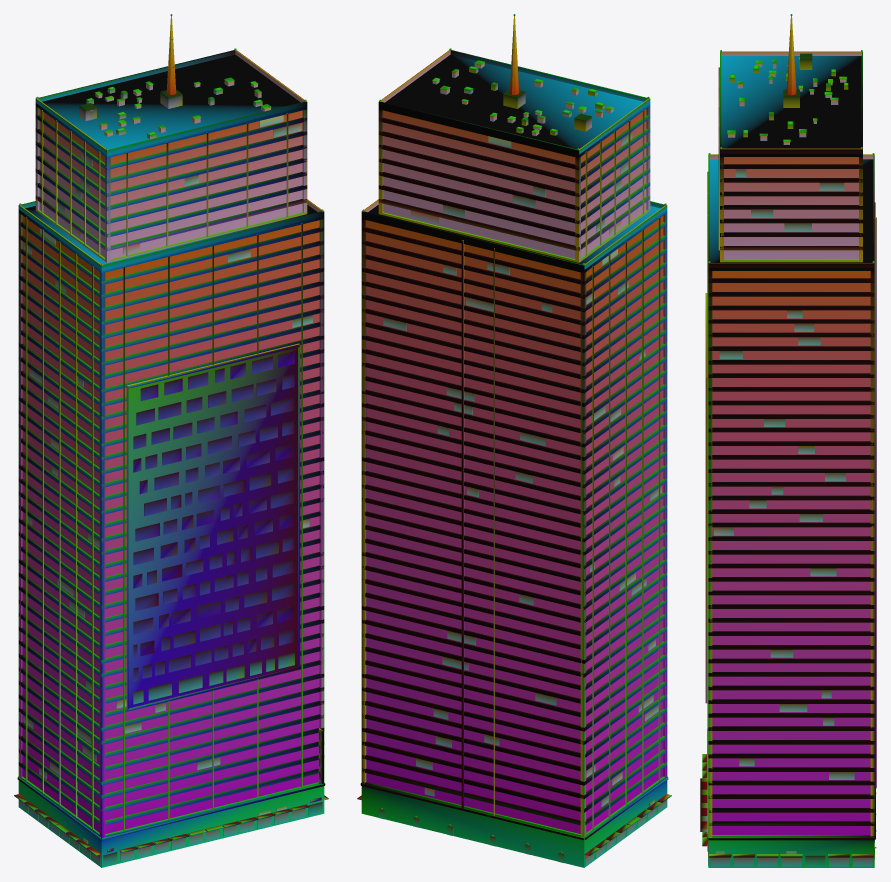
The model's file is Tower_Monolith_V12.fbx.
3 views of the same model, side by side, from view 1: azimuth 30°, elevation 25°; view 2: azimuth 150°, elevation 25°; view 3: azimuth 270°, elevation 25° (orthographic).
Visible parts, largest first — view 1: Tower_Monolith_V12_LOD0; view 2: Tower_Monolith_V12_LOD0; view 3: Tower_Monolith_V12_LOD0.
Boxes of the visible parts, left/top/right/bottom form: Tower_Monolith_V12_LOD0: left=14, top=14, right=328, bottom=867; Tower_Monolith_V12_LOD0: left=357, top=14, right=671, bottom=867; Tower_Monolith_V12_LOD0: left=700, top=14, right=876, bottom=867.
Size of what is drawn, in the model's own units: 64.8 by 212 by 42.31.
